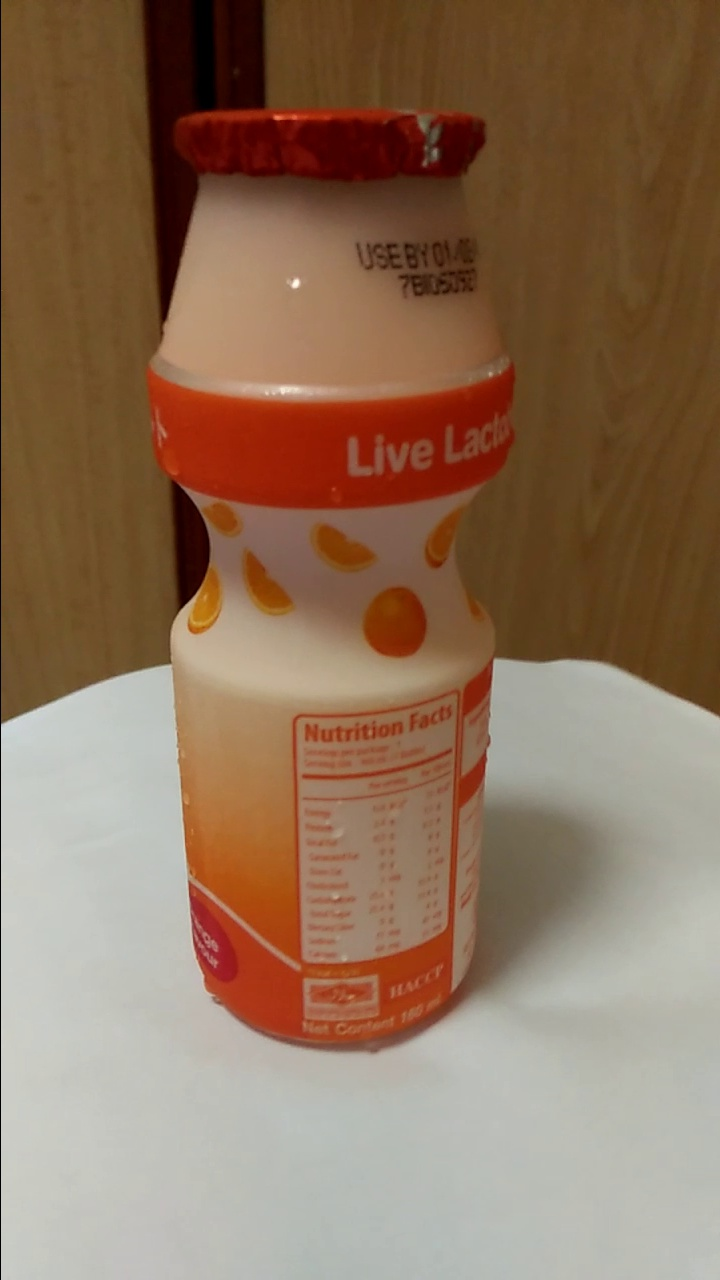milk: (166, 112, 492, 1053)
